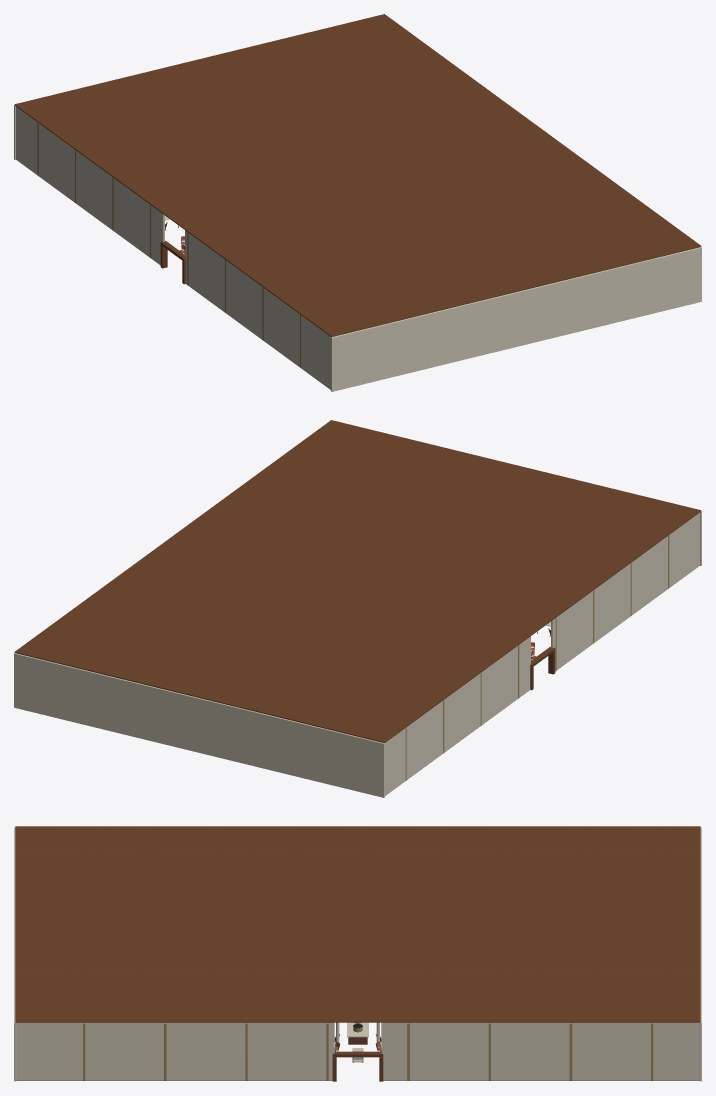
The model's file is SOL_D10_directory_06_source001.glb.
The picture shows the model from 3 angles, top to bottom: view 1: azimuth 30°, elevation 25°; view 2: azimuth 150°, elevation 25°; view 3: azimuth 270°, elevation 25°; orthographic projection. The views are drawn at different scales.
Visible parts, largest first — view 1: E_ceiling, E_outer_north, E_outer_west0, E_outer_west1; view 2: E_ceiling, E_outer_south, E_outer_west1, E_outer_west0; view 3: E_ceiling, E_outer_east1, E_outer_east0, E_outer_south, E_outer_north.
Part boxes in pixels (box(x1,y1,x2,y2)): E_ceiling: box(14, 14, 701, 336); E_outer_north: box(331, 247, 701, 391); E_outer_west0: box(16, 106, 164, 265); E_outer_west1: box(185, 230, 330, 389); E_ceiling: box(14, 420, 701, 742); E_outer_south: box(14, 653, 384, 797); E_outer_west1: box(551, 512, 699, 670); E_outer_west0: box(385, 636, 530, 795); E_ceiling: box(15, 826, 700, 1022); E_outer_east1: box(16, 1022, 334, 1080); E_outer_east0: box(381, 1022, 699, 1080); E_outer_south: box(699, 827, 701, 1081); E_outer_north: box(14, 827, 16, 1081).
Size of the model in its own units: 45.75 by 6.54 by 67.84.
19 materials, 19 textured.
